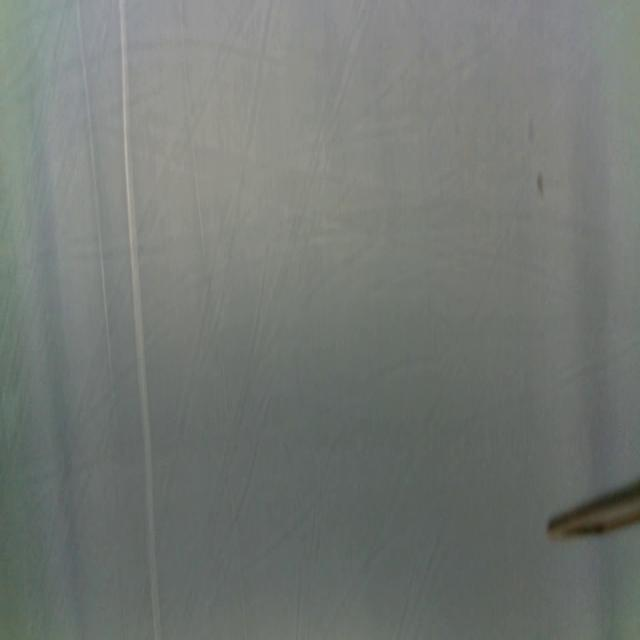crease: (119, 0, 163, 640), (74, 0, 114, 395), (179, 0, 209, 264)
